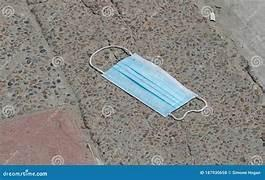Mask: (90, 46, 206, 119)
